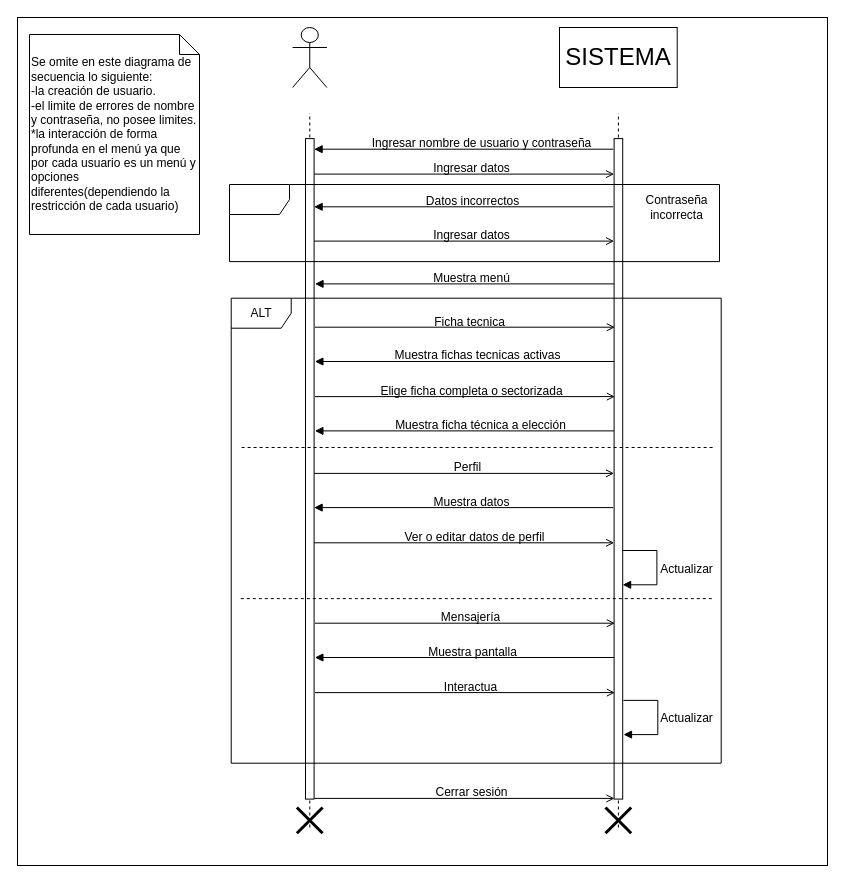
Some shapes in this 845 by 883 pixel diagram are drawn without their labels. The box of each missing label's shape, as (x1, y1, x2, y2) in pixels:
LOOP: (228, 184, 720, 262)
USUARIO: (292, 26, 327, 88)
